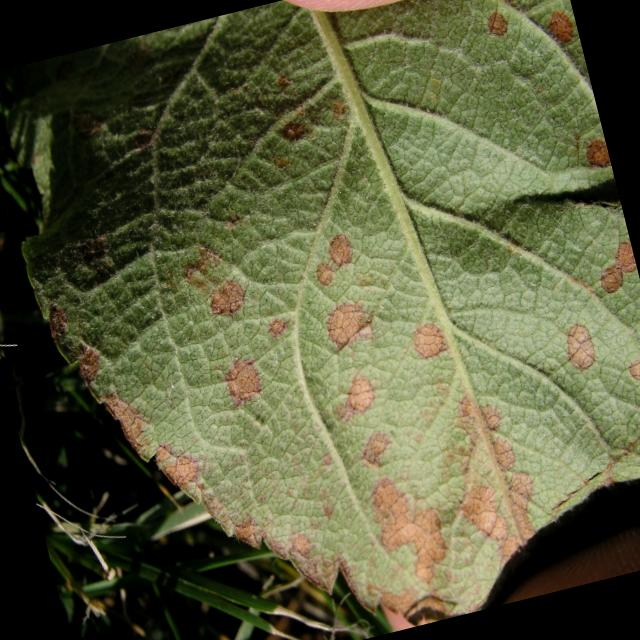leaf_spot: (15, 0, 640, 619), (329, 233, 352, 267)
